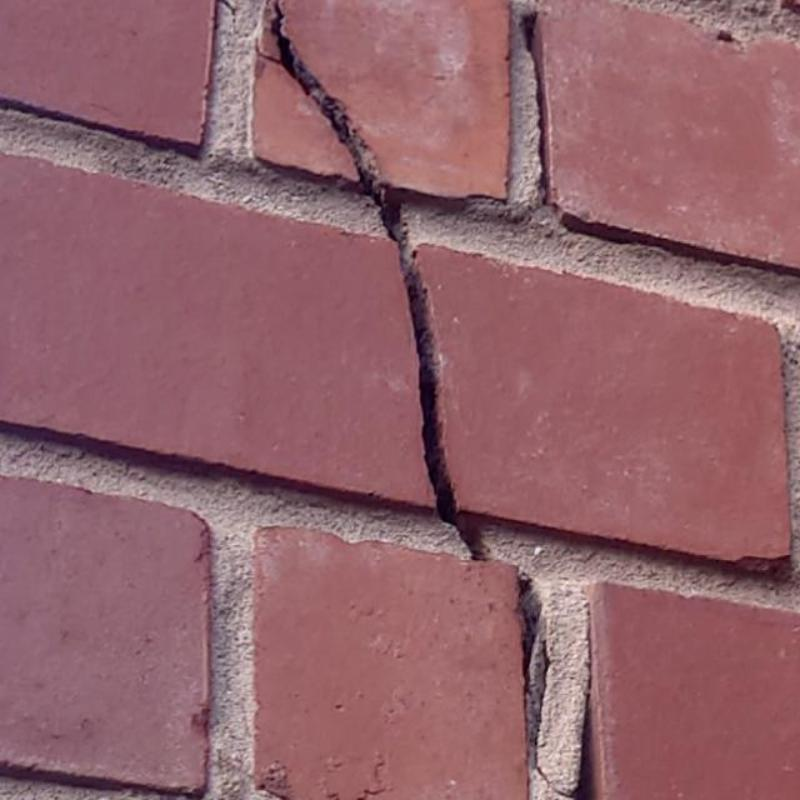pothole: (275, 11, 486, 561), (522, 16, 554, 210), (521, 580, 552, 769), (571, 634, 598, 796), (536, 766, 572, 799), (252, 36, 279, 64), (219, 0, 238, 26)
